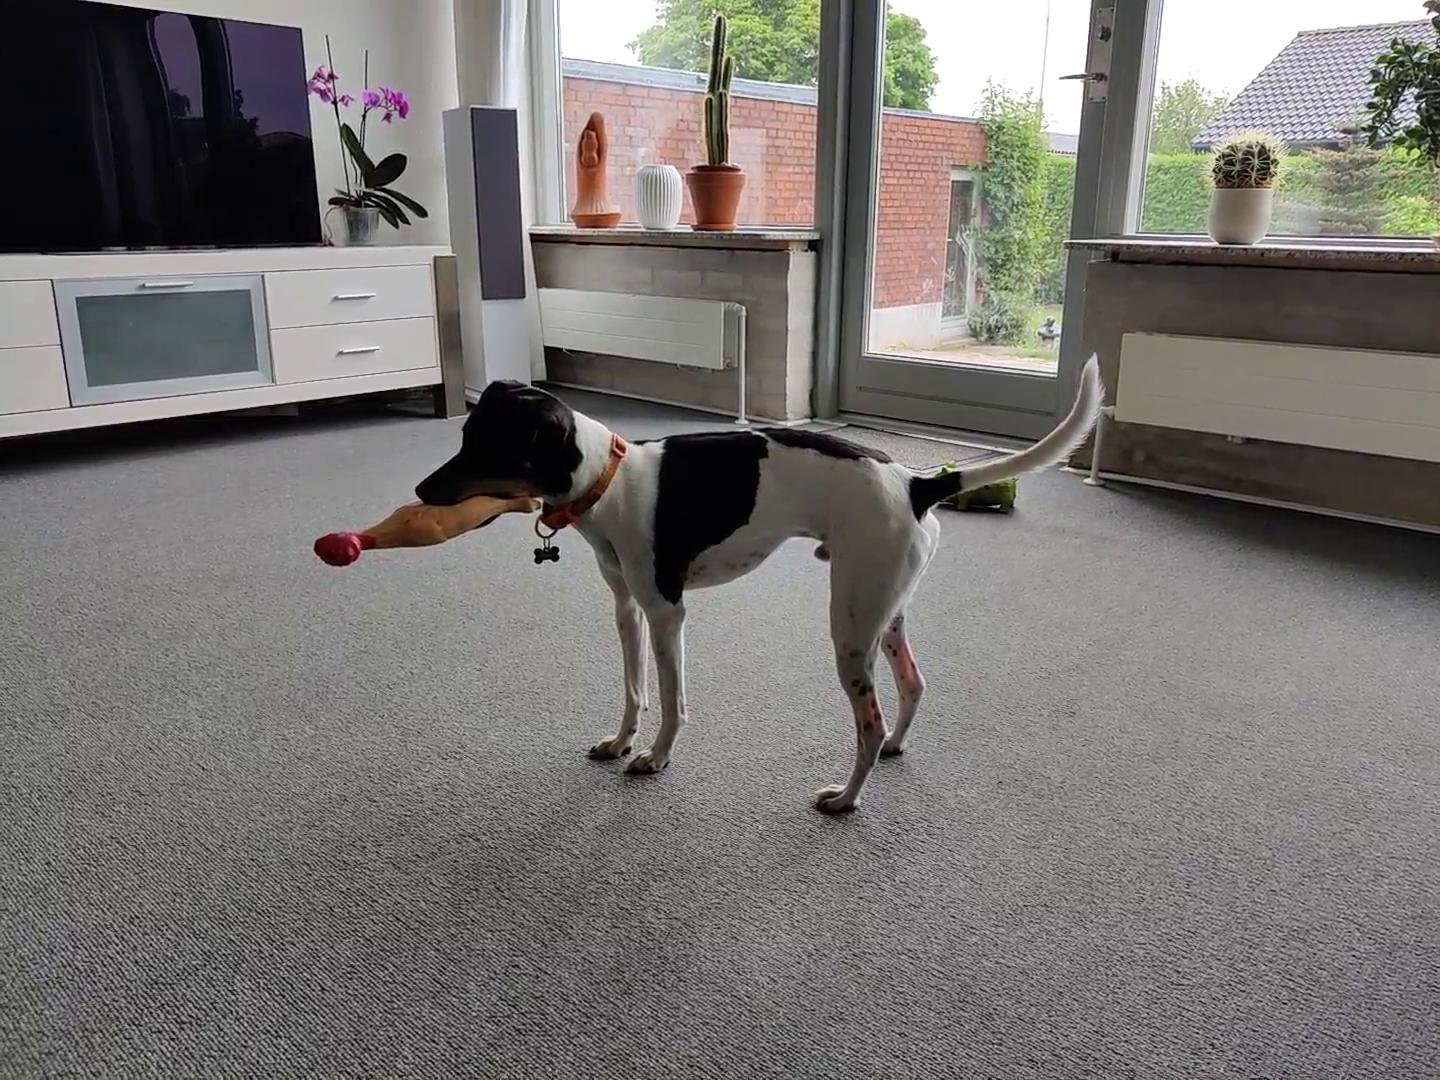Dog: (413, 346, 1109, 816)
